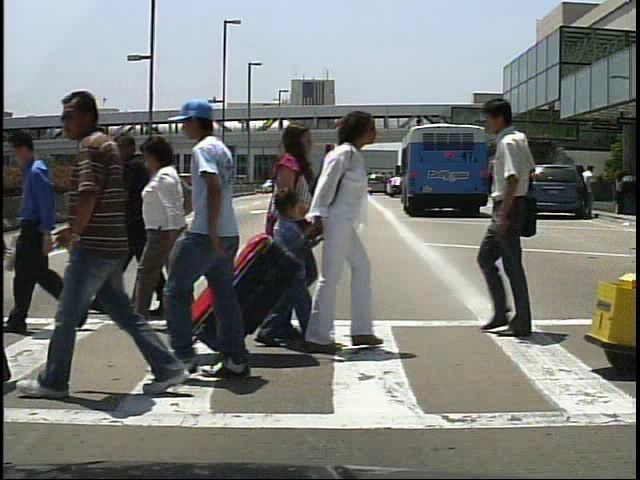person: (23, 84, 204, 407), (171, 105, 280, 388), (467, 90, 568, 338), (304, 103, 387, 354), (9, 122, 87, 341), (260, 118, 330, 360), (101, 130, 173, 322), (131, 134, 196, 328), (260, 180, 313, 358), (582, 165, 602, 218), (498, 166, 516, 219), (506, 166, 525, 215)
